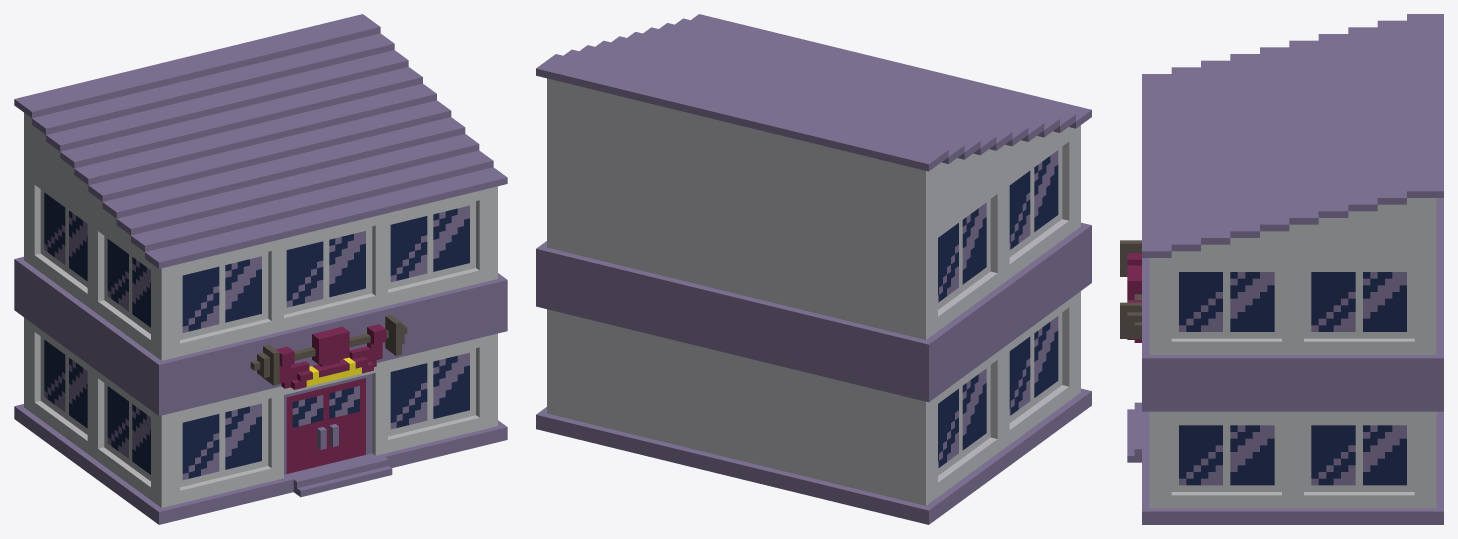
Rendered from gym_b.obj.
3 renders of one model, left to right at view 1: azimuth 30°, elevation 25°; view 2: azimuth 150°, elevation 25°; view 3: azimuth 270°, elevation 25°, orthographic. The views are drawn at different scales.
Size of the model in its own units: 5.7 by 5 by 4.4.
Materials: 1 (1 with a texture image).
